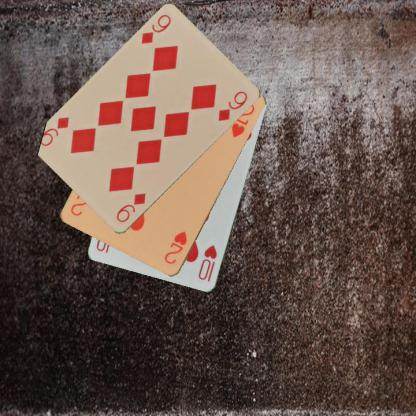10h: (196, 243, 218, 283)
2h: (162, 229, 188, 266)
9d: (138, 10, 172, 46), (114, 191, 147, 224)
